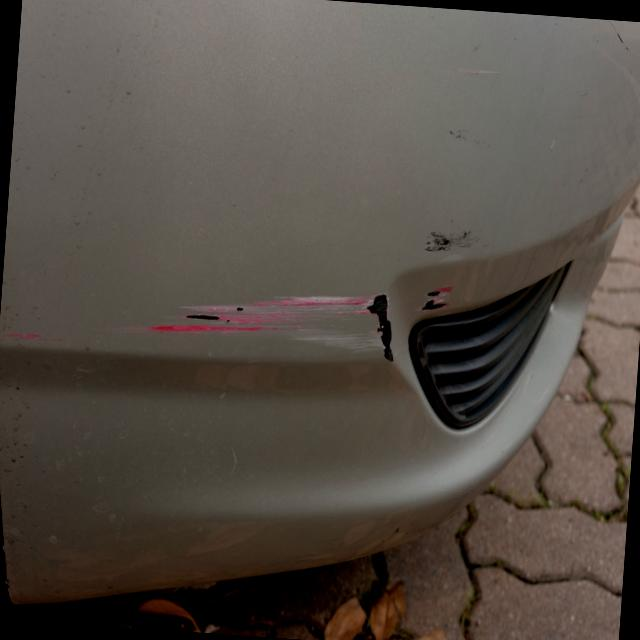Rayure: (171, 272, 400, 362), (131, 305, 282, 357), (424, 215, 485, 263), (417, 278, 461, 325), (5, 325, 70, 350)
